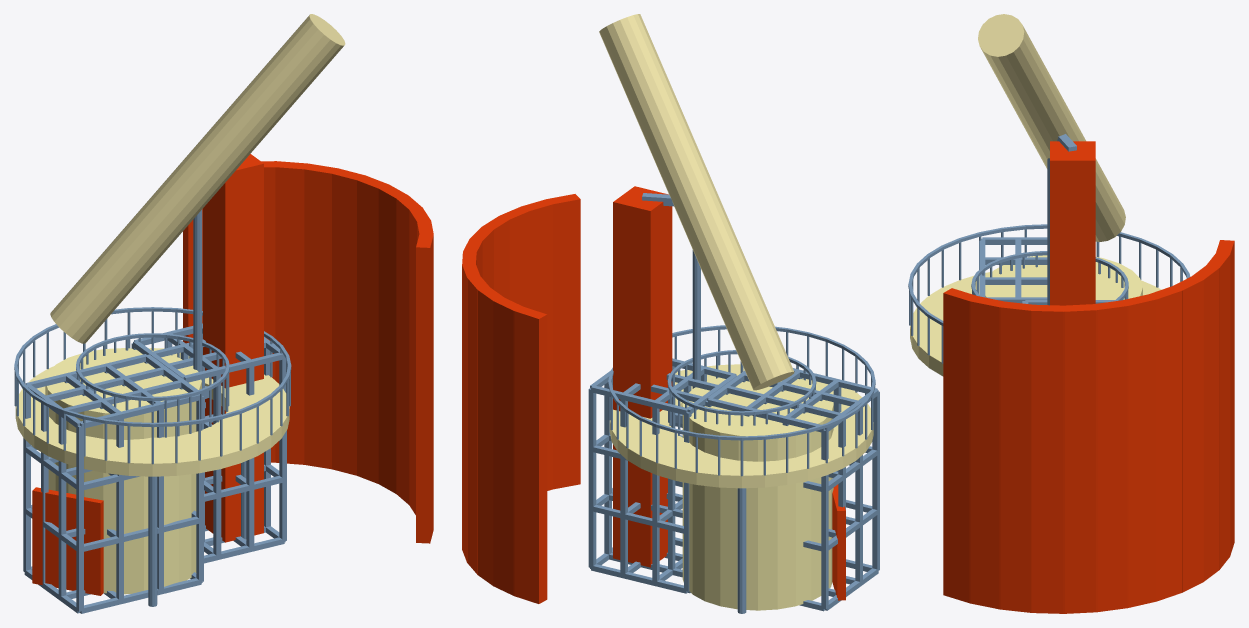
Rendered from folie_tag_124.glb.
3 renders of one model, left to right at view 1: azimuth 30°, elevation 25°; view 2: azimuth 150°, elevation 25°; view 3: azimuth 270°, elevation 25°, orthographic. The views are drawn at different scales.
Visible parts, largest first — view 1: folie_tag_124_00_curve, folie_tag_124_05_tube, folie_tag_124_03_cage, folie_tag_124_core, folie_tag_124_02_drum, folie_tag_124_line, folie_tag_124_01_ring, folie_tag_124_04_cage, folie_tag_124_06_panel; view 2: folie_tag_124_00_curve, folie_tag_124_02_drum, folie_tag_124_05_tube, folie_tag_124_core, folie_tag_124_04_cage, folie_tag_124_03_cage, folie_tag_124_line, folie_tag_124_01_ring, folie_tag_124_06_panel; view 3: folie_tag_124_00_curve, folie_tag_124_05_tube, folie_tag_124_core, folie_tag_124_line, folie_tag_124_02_drum, folie_tag_124_01_ring, folie_tag_124_03_cage.
Boxes of the visible parts, left/top/right/bottom form: folie_tag_124_00_curve: left=183, top=161, right=433, bottom=543; folie_tag_124_05_tube: left=50, top=14, right=345, bottom=343; folie_tag_124_03_cage: left=23, top=354, right=203, bottom=613; folie_tag_124_core: left=203, top=154, right=263, bottom=542; folie_tag_124_02_drum: left=45, top=348, right=201, bottom=594; folie_tag_124_line: left=14, top=209, right=291, bottom=606; folie_tag_124_01_ring: left=15, top=348, right=289, bottom=476; folie_tag_124_04_cage: left=131, top=323, right=286, bottom=563; folie_tag_124_06_panel: left=32, top=487, right=103, bottom=595; folie_tag_124_00_curve: left=462, top=194, right=580, bottom=603; folie_tag_124_02_drum: left=682, top=374, right=833, bottom=610; folie_tag_124_05_tube: left=599, top=14, right=794, bottom=390; folie_tag_124_core: left=613, top=186, right=672, bottom=567; folie_tag_124_04_cage: left=588, top=358, right=736, bottom=593; folie_tag_124_03_cage: left=705, top=368, right=879, bottom=611; folie_tag_124_line: left=608, top=193, right=875, bottom=613; folie_tag_124_01_ring: left=609, top=364, right=873, bottom=488; folie_tag_124_06_panel: left=832, top=484, right=845, bottom=600; folie_tag_124_00_curve: left=943, top=240, right=1234, bottom=613; folie_tag_124_05_tube: left=978, top=14, right=1125, bottom=241; folie_tag_124_core: left=1050, top=141, right=1095, bottom=305; folie_tag_124_line: left=908, top=134, right=1190, bottom=363; folie_tag_124_02_drum: left=985, top=255, right=1142, bottom=299; folie_tag_124_01_ring: left=910, top=272, right=1161, bottom=376; folie_tag_124_03_cage: left=979, top=237, right=1047, bottom=303.
Size of the model in its own units: 10.84 by 14.27 by 7.82.
